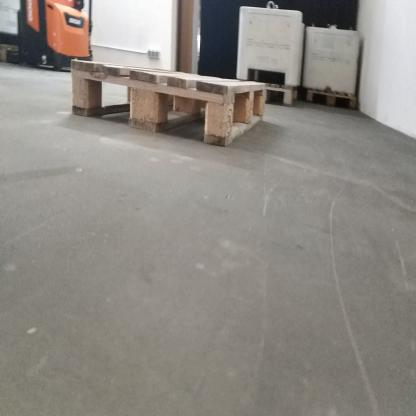BoxFace: (68, 52, 269, 152)
